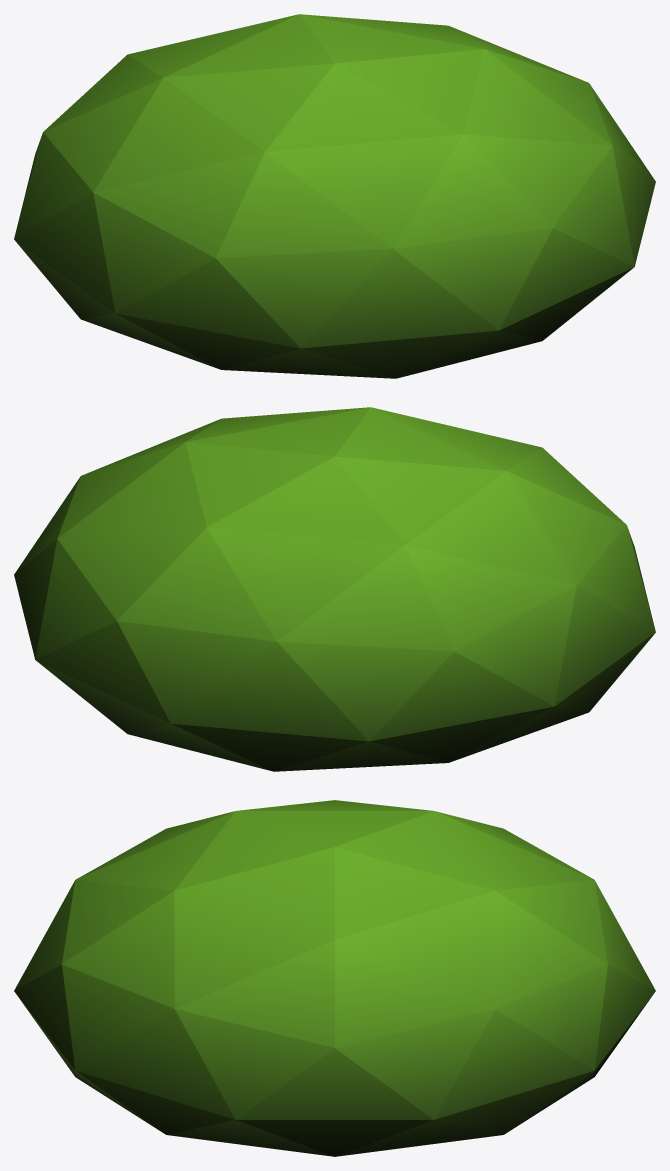
File: WideBush_Green.fbx
3 renders of one model, top to bottom at view 1: azimuth 30°, elevation 25°; view 2: azimuth 150°, elevation 25°; view 3: azimuth 270°, elevation 25°, orthographic. The views are drawn at different scales.
Visible parts, largest first — view 1: WideBush_Green; view 2: WideBush_Green; view 3: WideBush_Green.
Boxes of the visible parts, x1,y1,x2,y2 form: WideBush_Green: (14,14,655,378); WideBush_Green: (14,407,655,771); WideBush_Green: (14,800,655,1156).
Bounding box in the file's own units: 470 × 165 × 494.
